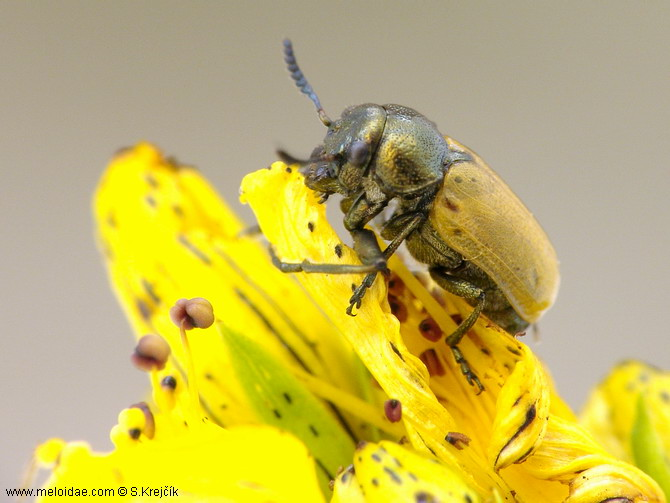Labidostomis_longimana: (261, 32, 565, 401)
